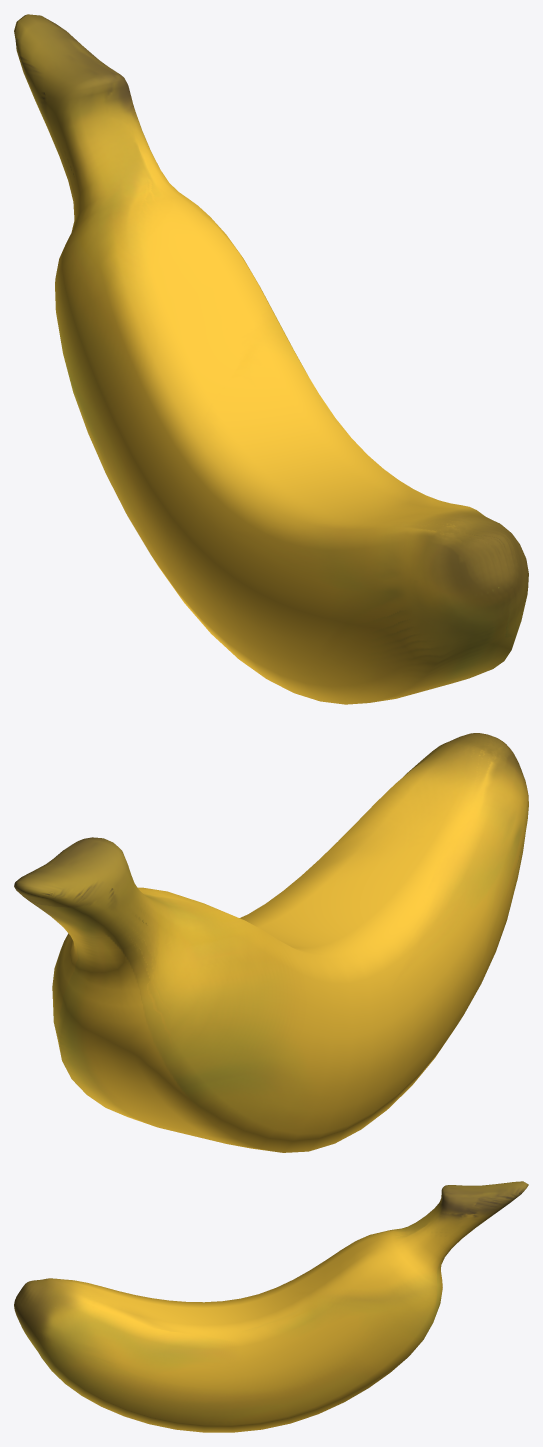
File: Banana.fbx
3 views of the same model, one above another, from view 1: azimuth 30°, elevation 25°; view 2: azimuth 150°, elevation 25°; view 3: azimuth 270°, elevation 25° (orthographic). The views are drawn at different scales.
Parts seen in each view (by area): view 1: Cube; view 2: Cube; view 3: Cube.
Part boxes in pixels (bbox=[...]): Cube: bbox=[14, 14, 528, 704]; Cube: bbox=[14, 733, 528, 1152]; Cube: bbox=[14, 1181, 528, 1432].
Size of the model in its own units: 0.6041 by 1.37 by 2.73.
